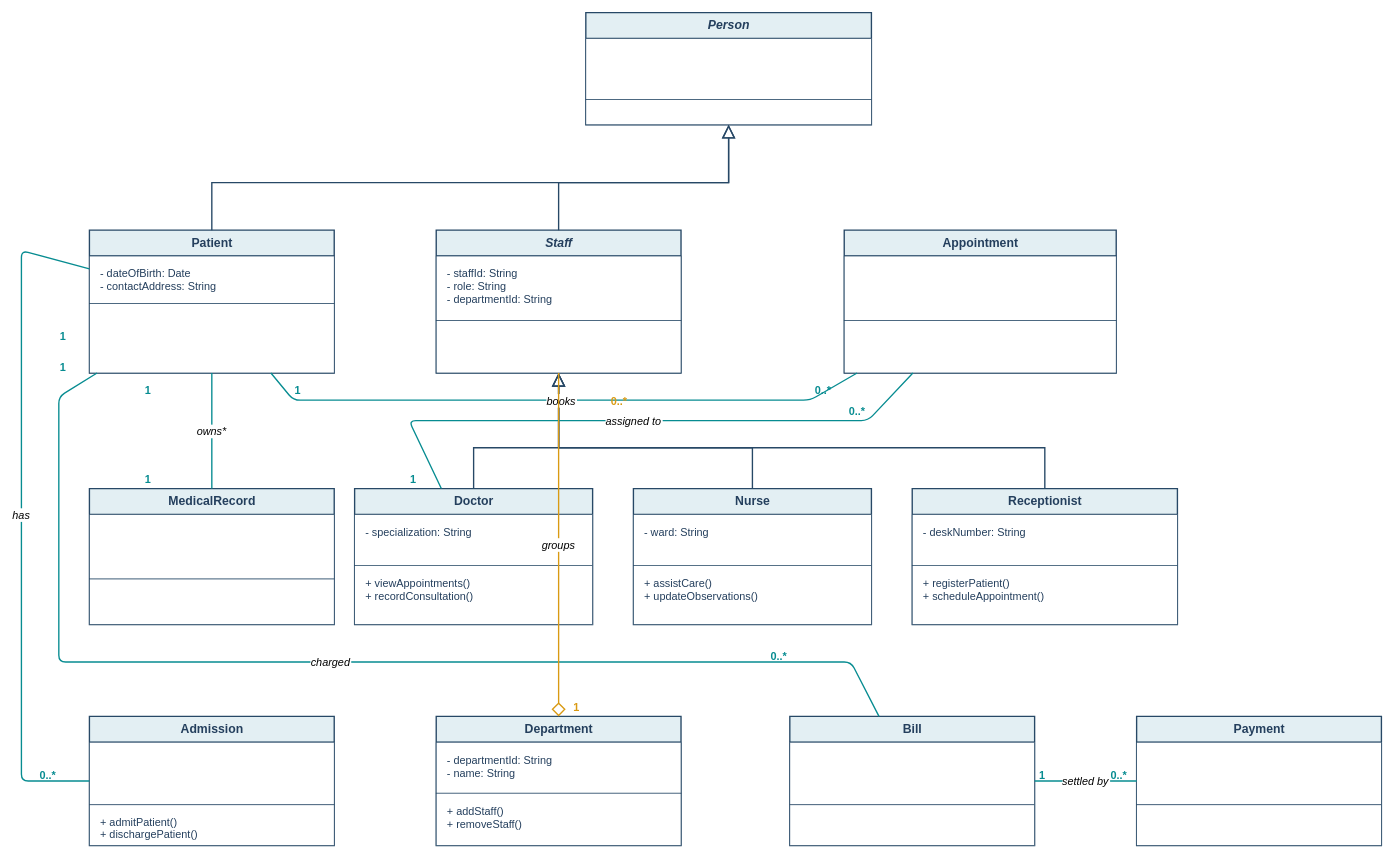
This 1393x857 diagram has some shape labels left out. The shapes that lost their labels are listed below. From the top down, each one's centre as x and y in pixels, then its label:
At pixel 728 69: "- personId: String - fullName: String - phone: String".
At pixel 980 288: "- appointmentId: String - dateTime: DateTime - status: String".
At pixel 211 338: "+ register() + updateContact()".
At pixel 980 346: "+ schedule() + reschedule() + cancel()".
At pixel 211 546: "- recordId: String - history: Text - notes: Text".
At pixel 211 601: "+ addEntry() + updateRecord()".
At pixel 211 773: "- admissionId: String - admissionDate: Date - status: String".
At pixel 912 773: "- billId: String - amount: Decimal - status: String".
At pixel 1258 773: "- paymentId: String - amount: Decimal - date: Date".
At pixel 912 825: "+ calculateTotal() + markPaid()".
At pixel 1258 825: "+ process() + issueReceipt()".
